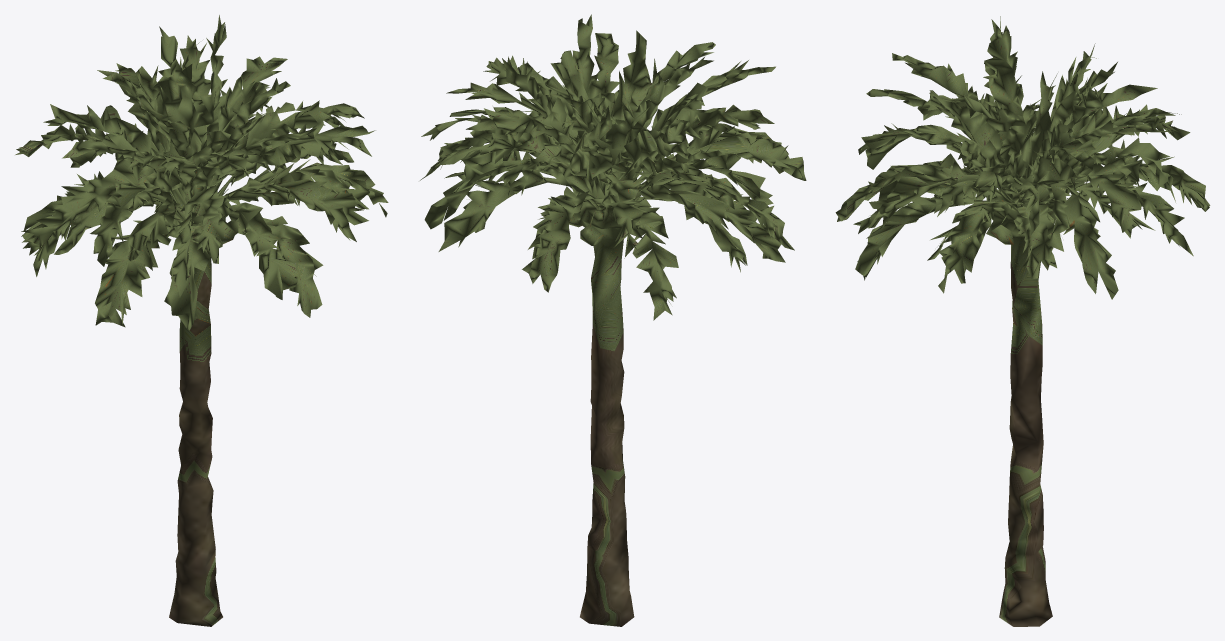
File: palm2.glb
3 views of the same model, side by side, from view 1: azimuth 30°, elevation 25°; view 2: azimuth 150°, elevation 25°; view 3: azimuth 270°, elevation 25° (orthographic). The views are drawn at different scales.
Size of the model in its own units: 1.18 by 1.89 by 1.14.
Materials: 1 (1 with a texture image).
